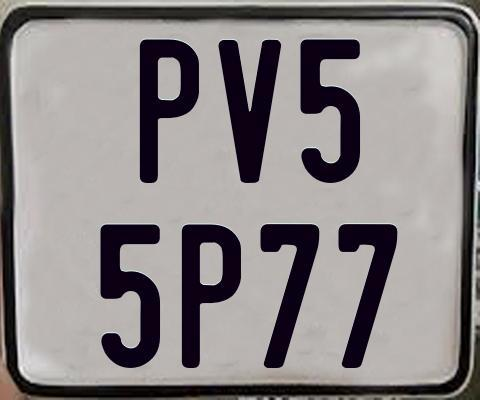5: (298, 39, 361, 186), (100, 221, 162, 367)
7: (259, 224, 323, 369), (338, 221, 398, 366)
P: (179, 223, 244, 369), (140, 37, 203, 183)
V: (216, 38, 285, 183)
